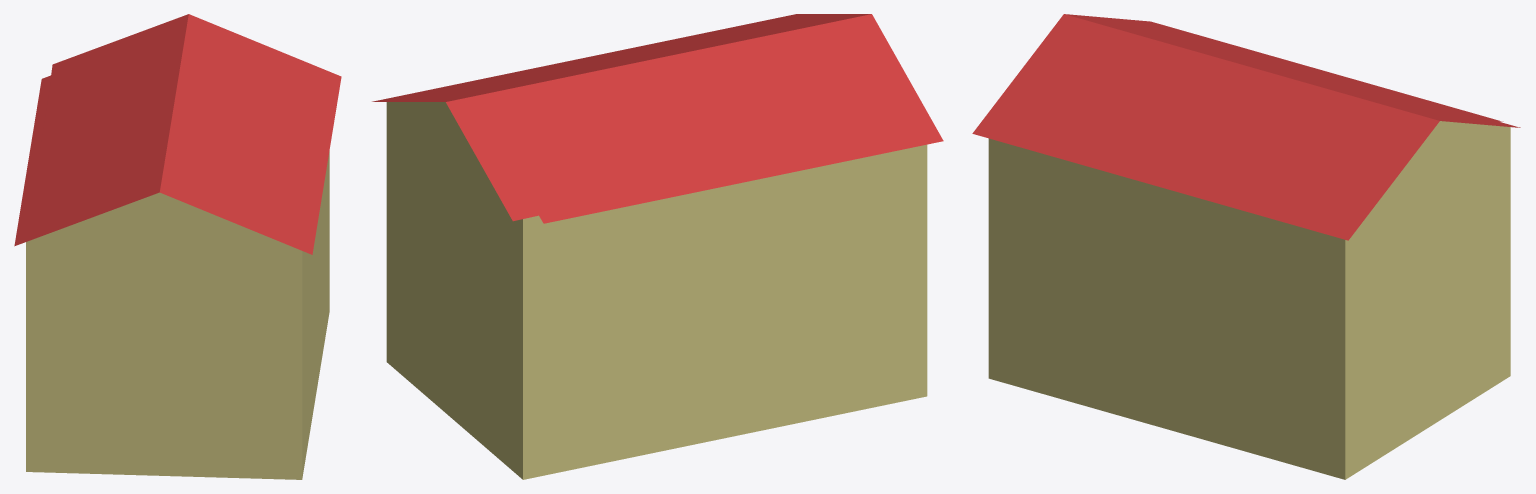
3 renders of one model, left to right at view 1: azimuth 30°, elevation 25°; view 2: azimuth 150°, elevation 25°; view 3: azimuth 270°, elevation 25°, orthographic. The views are drawn at different scales.
Parts seen in each view (by area): view 1: group_5, group_3, group_4; view 2: group_5, group_3, group_4; view 3: group_5, group_3.
Boxes of the visible parts, box(x1,y1,x2,y2) form: group_5: box(26, 151, 329, 479); group_3: box(14, 14, 341, 254); group_4: box(15, 15, 188, 244); group_5: box(386, 102, 927, 479); group_3: box(372, 14, 943, 223); group_4: box(446, 101, 941, 220); group_5: box(988, 121, 1510, 479); group_3: box(972, 14, 1520, 240).
Bounding box in the file's own units: 10.98 × 11.63 × 7.21.
